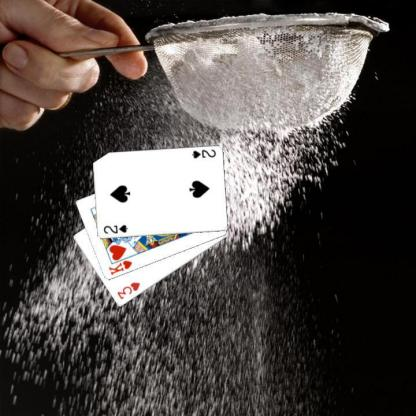2S: (100, 223, 129, 235), (189, 147, 217, 159)
3H: (114, 280, 141, 300)
KH: (106, 258, 133, 276)
